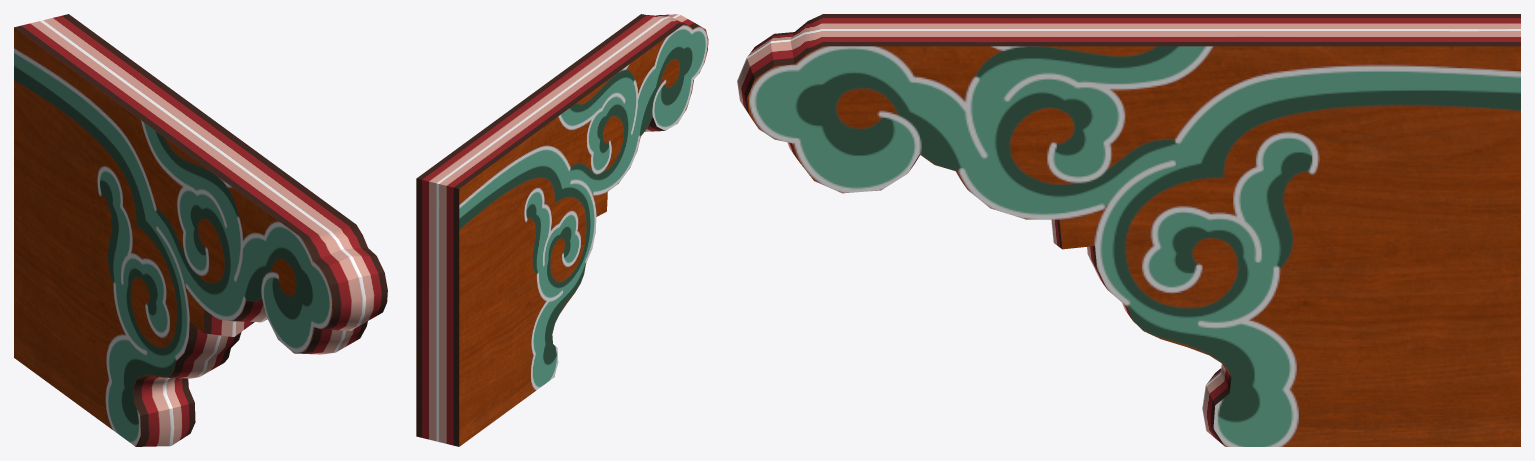
The model's file is SM_Gongpo04G.fbx.
3 renders of one model, left to right at view 1: azimuth 30°, elevation 25°; view 2: azimuth 150°, elevation 25°; view 3: azimuth 270°, elevation 25°, orthographic. The views are drawn at different scales.
Parts seen in each view (by area): view 1: SM_Gongpo04G; view 2: SM_Gongpo04G; view 3: SM_Gongpo04G.
Boxes of the visible parts, <box> form: SM_Gongpo04G: <box>14,14,387,446</box>; SM_Gongpo04G: <box>416,14,708,446</box>; SM_Gongpo04G: <box>737,14,1520,446</box>.
Size of the model in its own units: 6.75 by 68.97 by 38.9.
